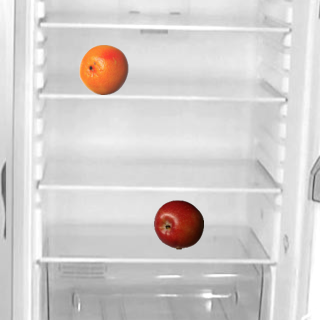Apple Braeburn: (153, 199, 203, 249)
Grapefruit Pink: (78, 44, 128, 94)
